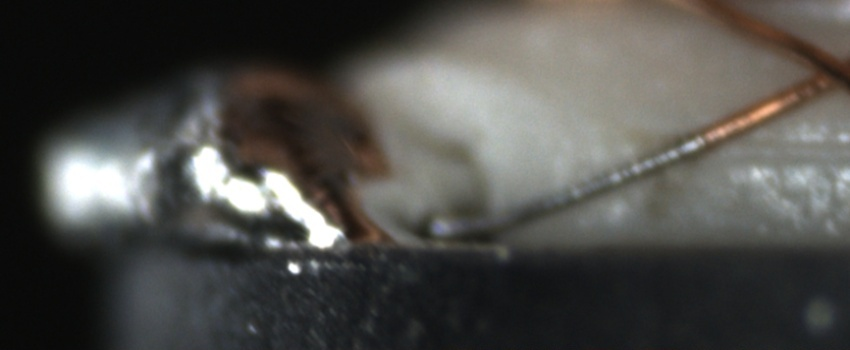CL: (776, 42, 850, 105)
DL: (694, 124, 850, 188)
TS: (431, 130, 704, 239)
